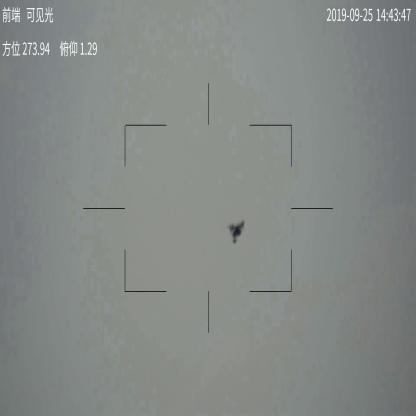uav: (231, 218, 251, 244)
